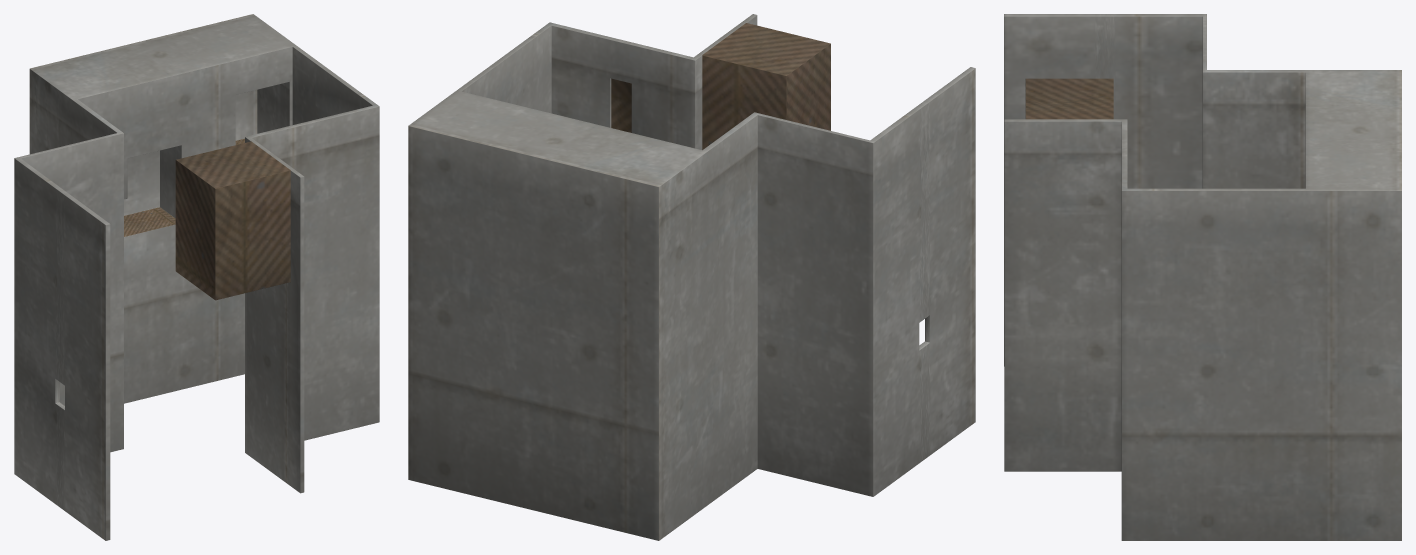
The model's file is Room_02.obj.
3 renders of one model, left to right at view 1: azimuth 30°, elevation 25°; view 2: azimuth 150°, elevation 25°; view 3: azimuth 270°, elevation 25°, orthographic. The views are drawn at different scales.
Parts seen in each view (by area): view 1: Room_02_Cube.016; view 2: Room_02_Cube.016; view 3: Room_02_Cube.016.
Boxes of the visible parts, bbox=[...] form: Room_02_Cube.016: bbox=[14, 14, 379, 540]; Room_02_Cube.016: bbox=[408, 14, 975, 540]; Room_02_Cube.016: bbox=[1004, 14, 1401, 540].
Bounding box in the file's own units: 36.51 × 33.69 × 34.7.
